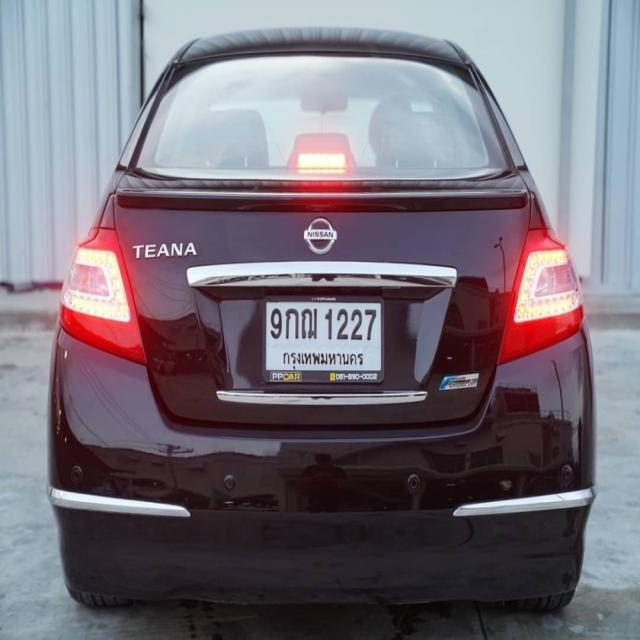license_plate: (260, 294, 386, 388)
